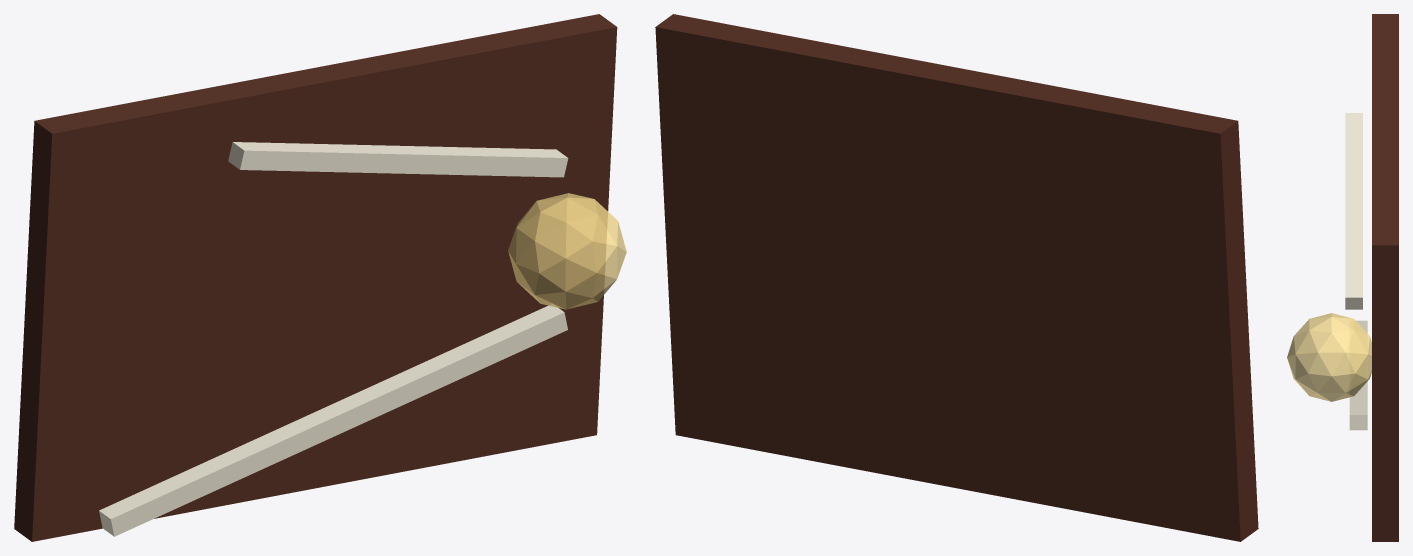
The model's file is 02_world_prop_polish.glb.
The picture shows the model from 3 angles, left to right: view 1: azimuth 30°, elevation 25°; view 2: azimuth 150°, elevation 25°; view 3: azimuth 270°, elevation 25°; orthographic projection. The views are drawn at different scales.
Visible parts, largest first — view 1: object_overlay_plate, edge_wear_a, glow_socket, edge_wear_b; view 2: object_overlay_plate; view 3: object_overlay_plate, glow_socket, edge_wear_b, edge_wear_a.
Part boxes in pixels (bbox=[...]): object_overlay_plate: bbox=[14, 14, 617, 541]; edge_wear_a: bbox=[99, 304, 567, 536]; glow_socket: bbox=[508, 193, 626, 309]; edge_wear_b: bbox=[228, 142, 568, 177]; object_overlay_plate: bbox=[655, 14, 1258, 541]; object_overlay_plate: bbox=[1372, 14, 1398, 541]; glow_socket: bbox=[1287, 313, 1371, 401]; edge_wear_b: bbox=[1345, 113, 1362, 309]; edge_wear_a: bbox=[1349, 320, 1367, 430].
Bounding box in the file's own units: 1.14 × 0.8066 × 0.25.
